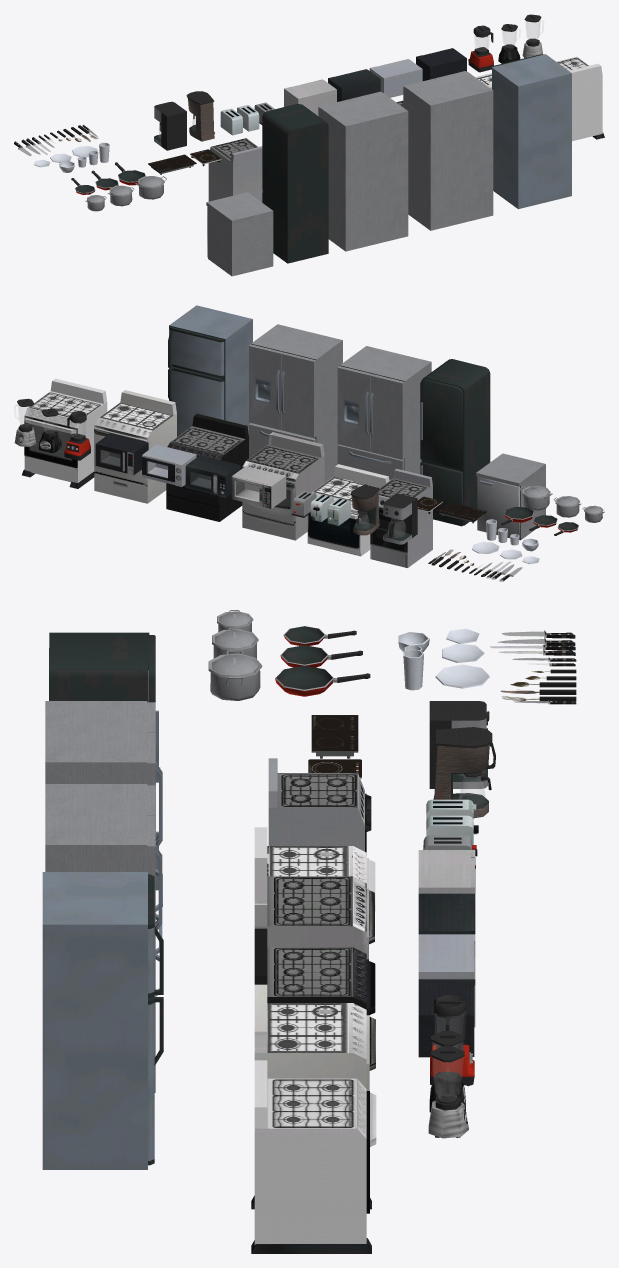
File: electronics_kitchen.glb
The picture shows the model from 3 angles, top to bottom: view 1: azimuth 30°, elevation 25°; view 2: azimuth 150°, elevation 25°; view 3: azimuth 270°, elevation 25°; orthographic projection. The views are drawn at different scales.
Visible parts, largest first — view 1: Refrigerator_01, Refrigerator_02, Refrigerator, Refrigerator_03, Refrigerator_04, Stove_05, Stove, Coffee_maker_01, Microwave_01, Microwave_03, Microwave, Microwave_02 (+5 smaller); view 2: Stove_01, Refrigerator_01, Refrigerator_03, Stove_03, Stove, Stove_02, Refrigerator, Refrigerator_door_06, Refrigerator_02, Stove_05, Refrigerator_door_03, Refrigerator_door_05 (+34 smaller); view 3: Refrigerator, Stove, Refrigerator_01, Stove_01, Refrigerator_02, Stove_03, Stove_05, Refrigerator_03, Stove_02, Stove_04, Coffee_maker, Microwave (+19 smaller).
Part boxes in pixels (left/top/right/bottom): Refrigerator_01: left=405, top=72, right=493, bottom=230; Refrigerator_02: left=320, top=92, right=408, bottom=251; Refrigerator: left=492, top=54, right=571, bottom=209; Refrigerator_03: left=262, top=104, right=328, bottom=263; Refrigerator_04: left=206, top=192, right=273, bottom=276; Stove_05: left=208, top=138, right=262, bottom=202; Stove: left=556, top=56, right=604, bottom=141; Coffee_maker_01: left=154, top=101, right=186, bottom=150; Microwave_01: left=369, top=59, right=422, bottom=97; Microwave_03: left=284, top=80, right=336, bottom=115; Microwave: left=416, top=48, right=466, bottom=80; Microwave_02: left=328, top=69, right=380, bottom=101; Stove_01: left=94, top=390, right=176, bottom=503; Refrigerator_01: left=251, top=324, right=342, bottom=482; Refrigerator_03: left=421, top=359, right=490, bottom=525; Stove_03: left=242, top=432, right=324, bottom=540; Stove: left=22, top=378, right=107, bottom=488; Stove_02: left=166, top=413, right=248, bottom=521; Refrigerator: left=169, top=305, right=252, bottom=435; Refrigerator_door_06: left=420, top=379, right=463, bottom=469; Refrigerator_02: left=339, top=346, right=431, bottom=474; Stove_05: left=370, top=468, right=432, bottom=567; Refrigerator_door_03: left=281, top=352, right=316, bottom=438; Refrigerator_door_05: left=370, top=374, right=404, bottom=459; Refrigerator: left=42, top=872, right=147, bottom=1169; Stove: left=251, top=1060, right=371, bottom=1253; Refrigerator_01: left=45, top=784, right=147, bottom=871; Stove_01: left=254, top=984, right=366, bottom=1088; Refrigerator_02: left=45, top=701, right=147, bottom=783; Stove_03: left=254, top=858, right=366, bottom=953; Stove_05: left=268, top=758, right=364, bottom=851; Refrigerator_03: left=49, top=632, right=149, bottom=702; Stove_02: left=254, top=928, right=366, bottom=1009; Stove_04: left=254, top=827, right=366, bottom=882; Coffee_maker: left=433, top=727, right=492, bottom=818; Microwave: left=418, top=979, right=475, bottom=1057.
Size of the model in its own units: 9.32 by 2.27 by 4.12.
14 materials, 10 textured.
